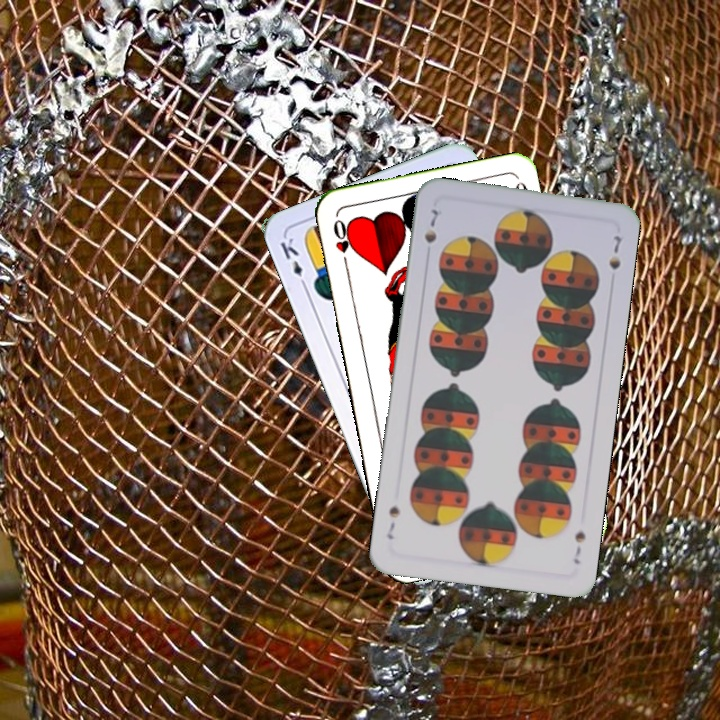EK: (276, 233, 310, 292)
HO: (329, 215, 354, 272)
S7: (420, 205, 441, 246), (569, 527, 588, 567)
